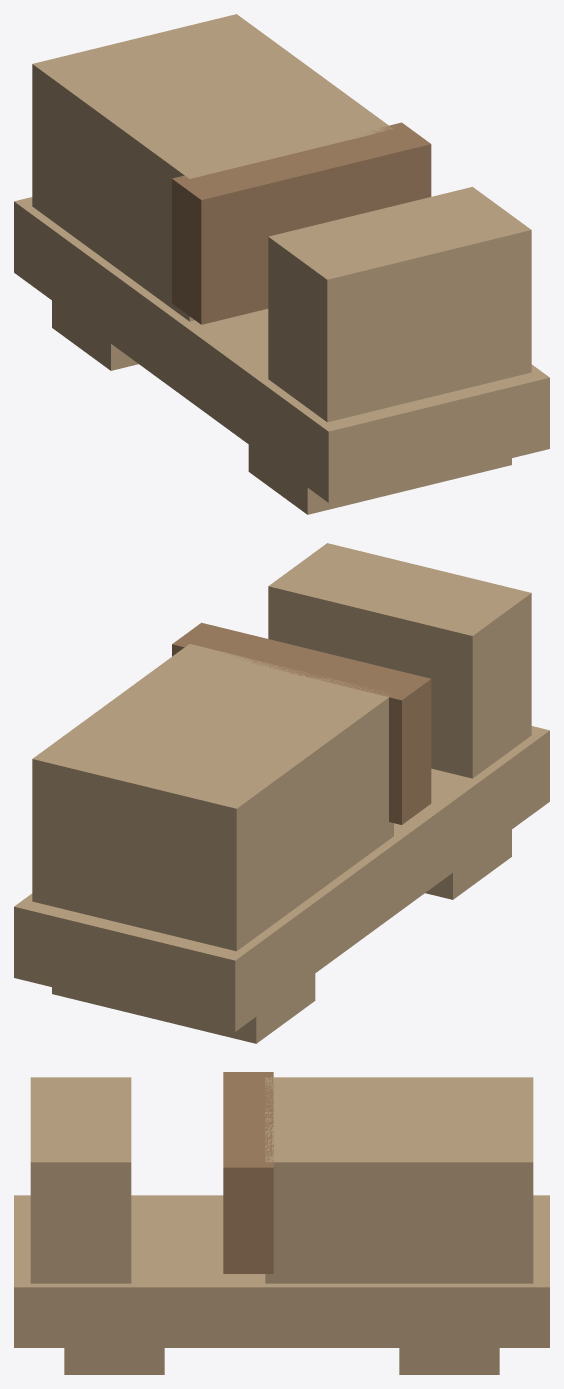
File: prop-walk-mill-shoe.fbx
3 renders of one model, top to bottom at view 1: azimuth 30°, elevation 25°; view 2: azimuth 150°, elevation 25°; view 3: azimuth 270°, elevation 25°, orthographic. The views are drawn at different scales.
Parts seen in each view (by area): view 1: prop-walk-mill-shoe; view 2: prop-walk-mill-shoe; view 3: prop-walk-mill-shoe.
Part boxes in pixels (x1,y1,x2,y2): prop-walk-mill-shoe: [14, 14, 549, 514]; prop-walk-mill-shoe: [14, 543, 549, 1043]; prop-walk-mill-shoe: [14, 1072, 549, 1374].
Size of the model in its own units: 13.5 by 14 by 32.
